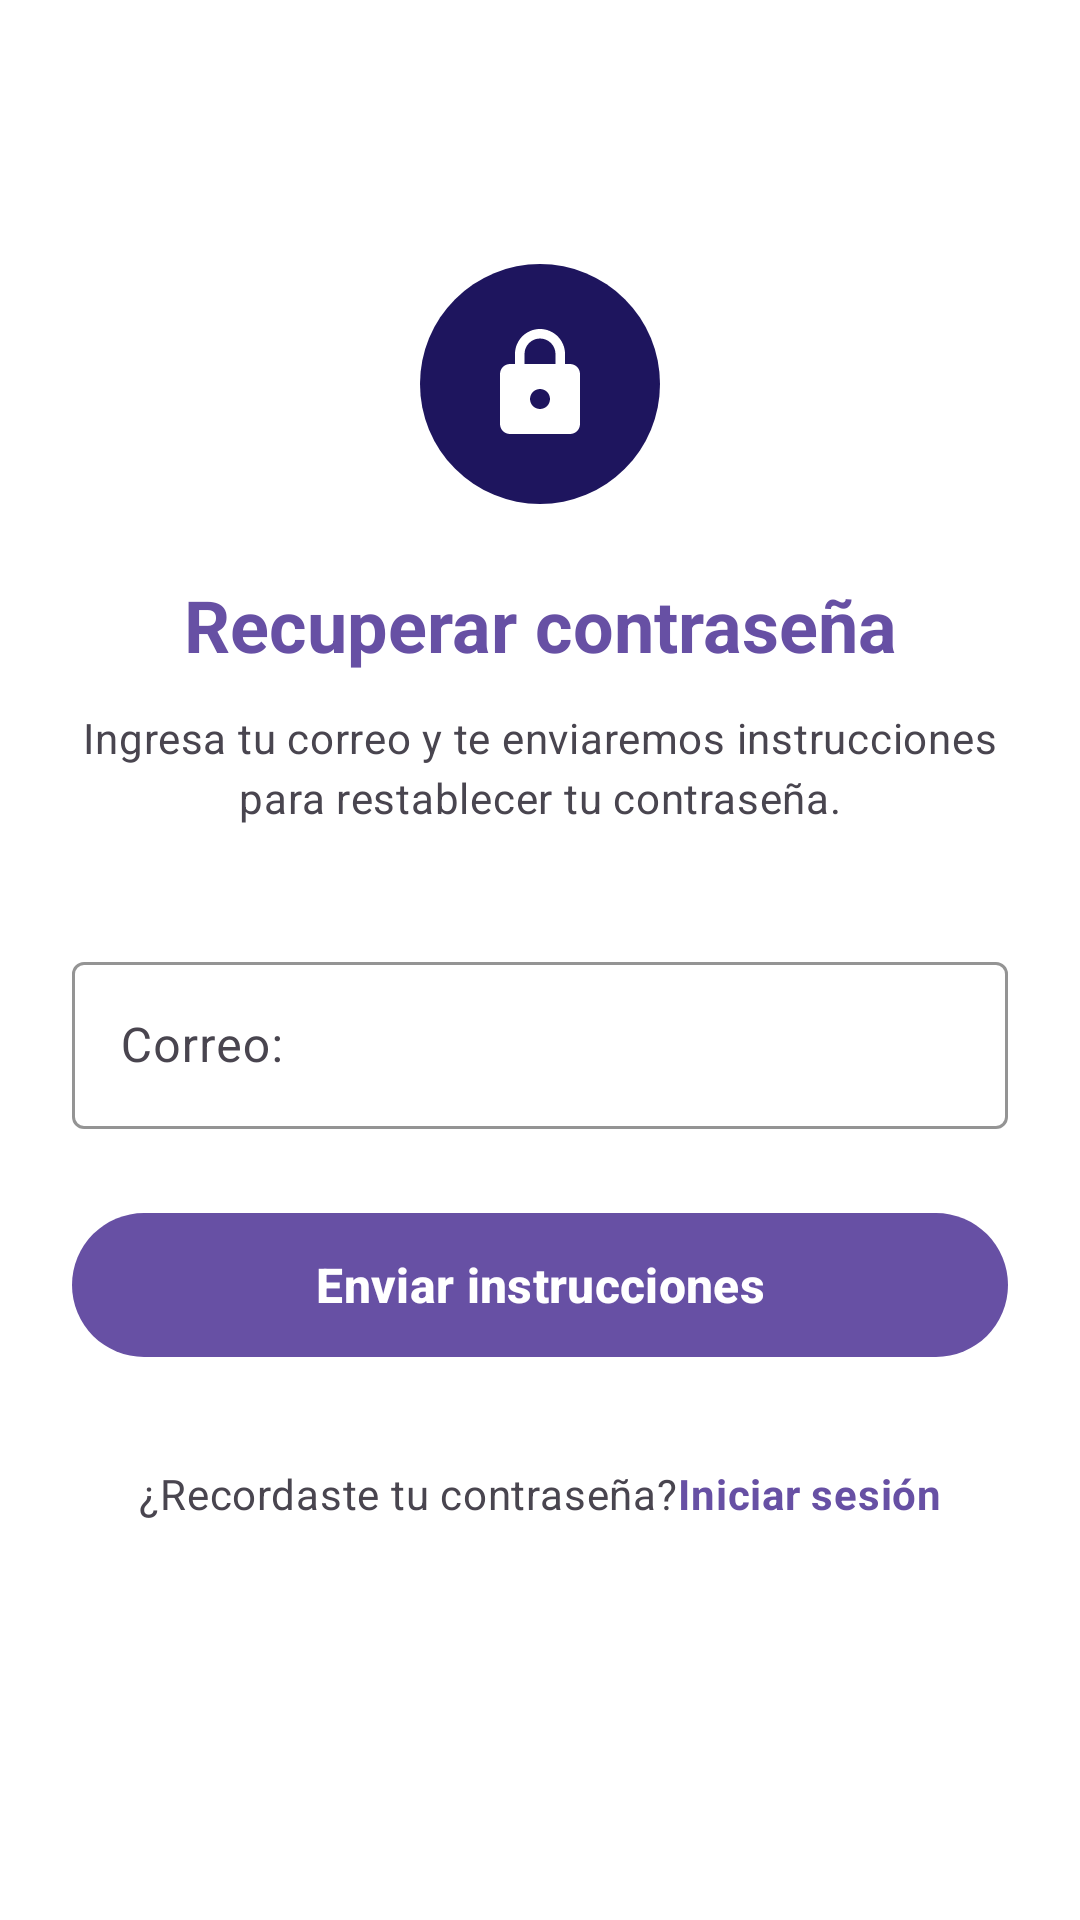

Screen size 1080px x 1920px. Icon name, then its center in pixels as [x,y]:
Icono de candado: [540,381]
